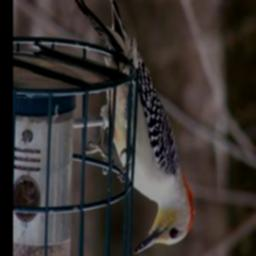Woodpecker: (70, 0, 197, 256)
